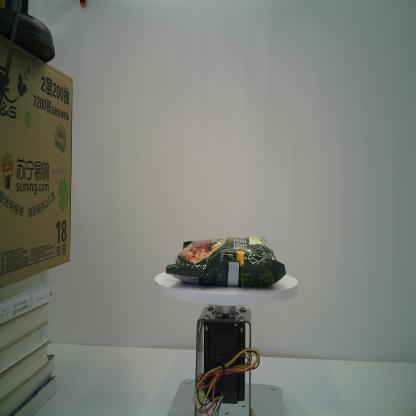Instant Noodles: (166, 233, 286, 290)
